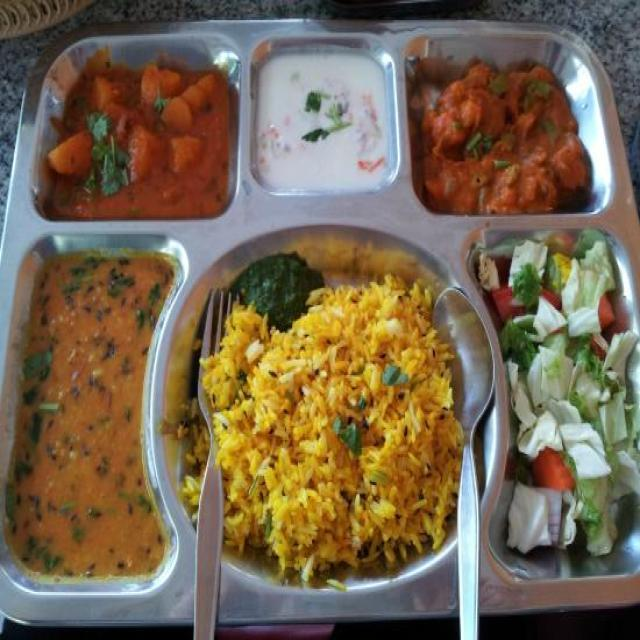dal: (21, 273, 148, 567)
raita: (249, 30, 405, 203)
rice: (224, 271, 464, 575)
veg: (406, 46, 611, 222)
